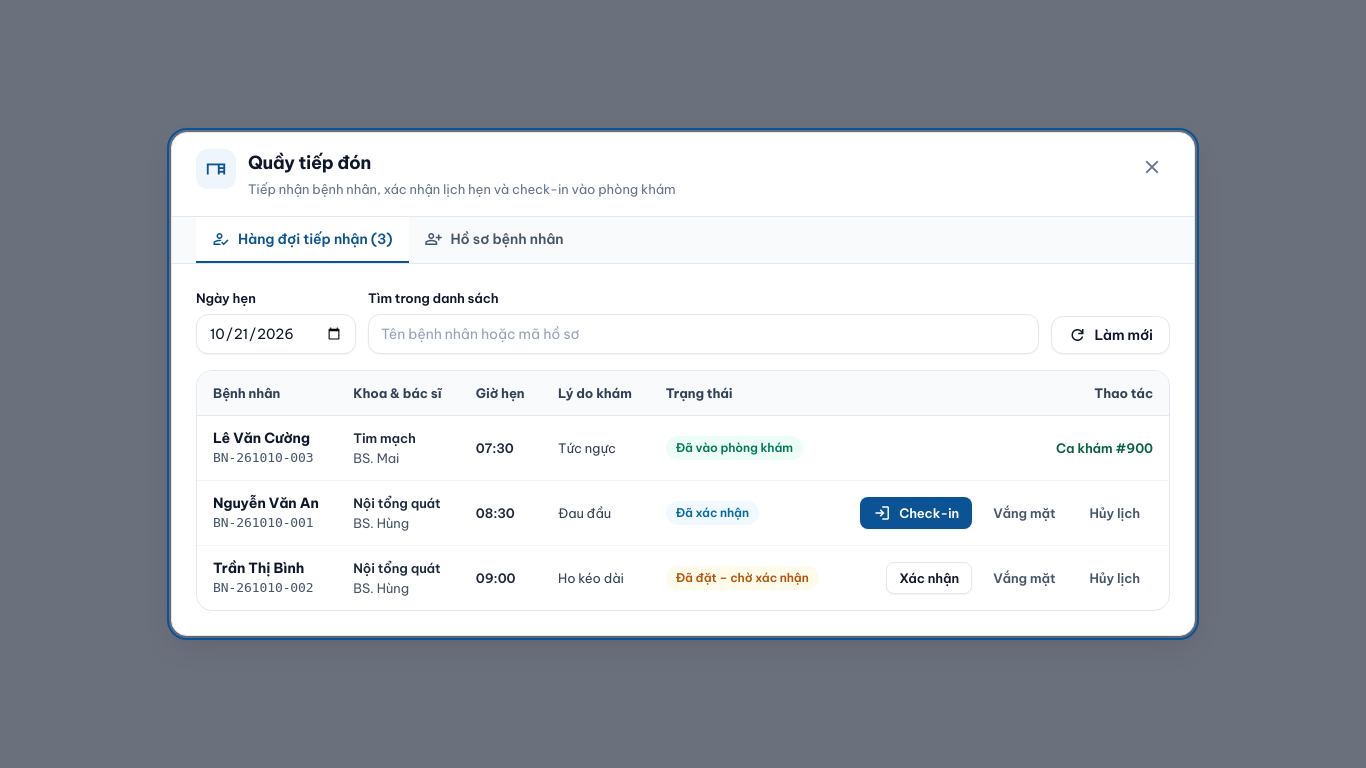
ReceptionDashboardModal – giao diện quầy tiếp đón › lỗi mạng khi check-in → hiện thông báo lỗi, KHÔNG báo đã check-in
Expected: the text "Nguyễn Văn An" is shown, [213,493,321,513]
Click the button with aria-label "Check-in Nguyễn Văn An".
click(916, 513)  # box [860,497,972,529]
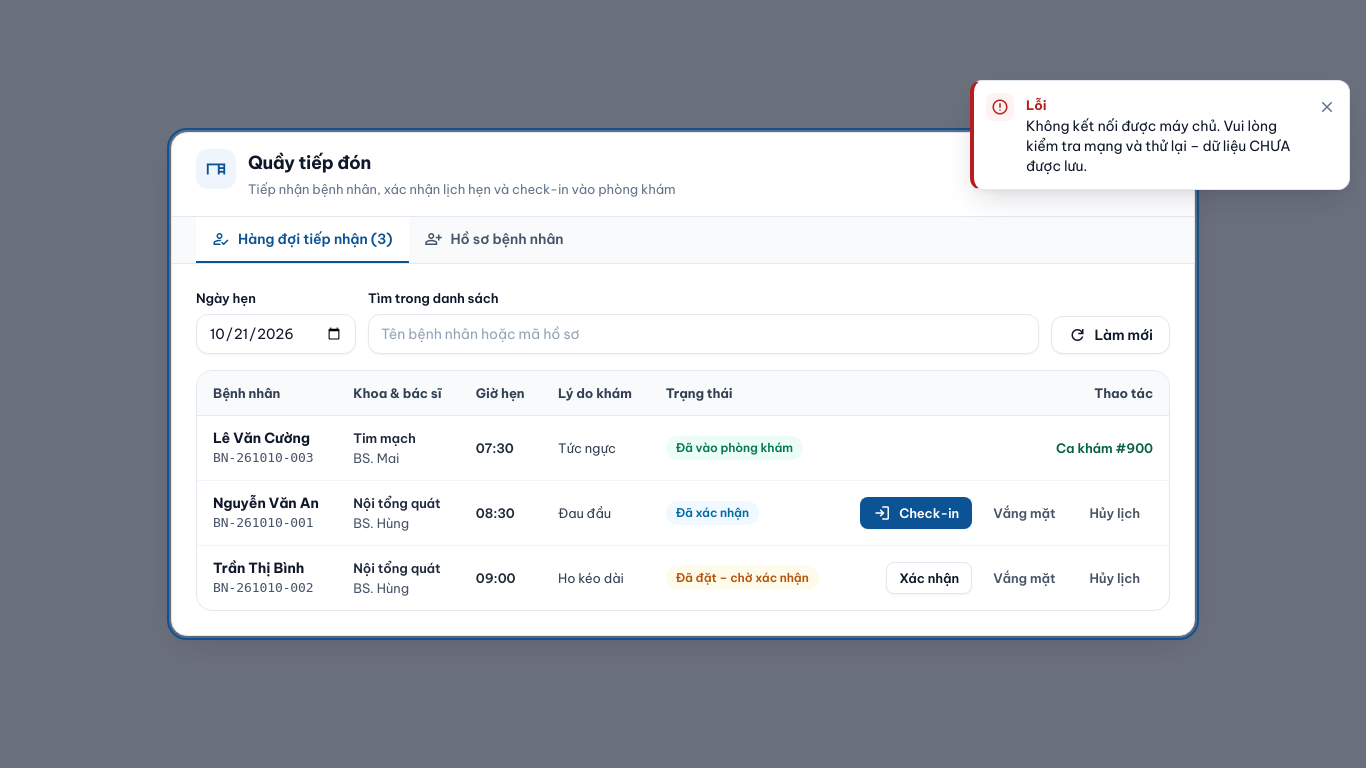
Expected: the message shows "Không kết nối được máy chủ", [1026,117,1290,175]
